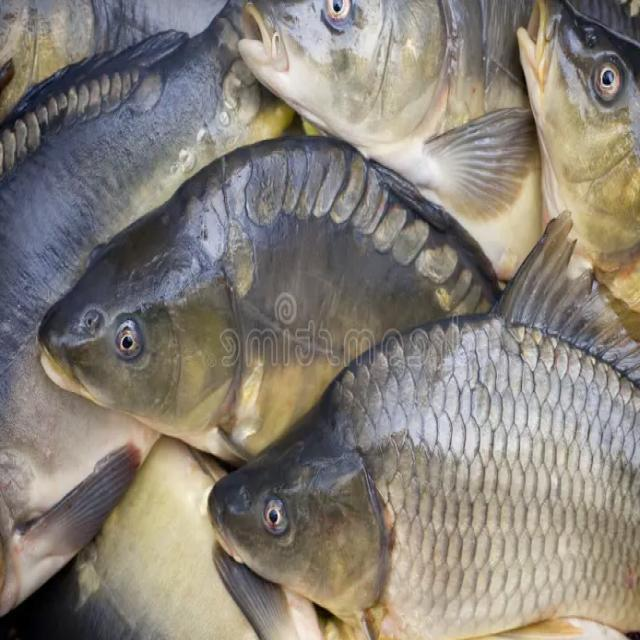Common carp: (206, 210, 640, 640), (33, 136, 500, 465)
